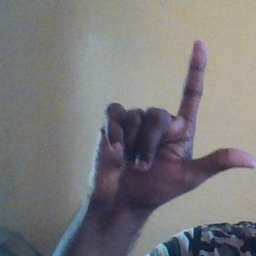L: (87, 39, 256, 212)
